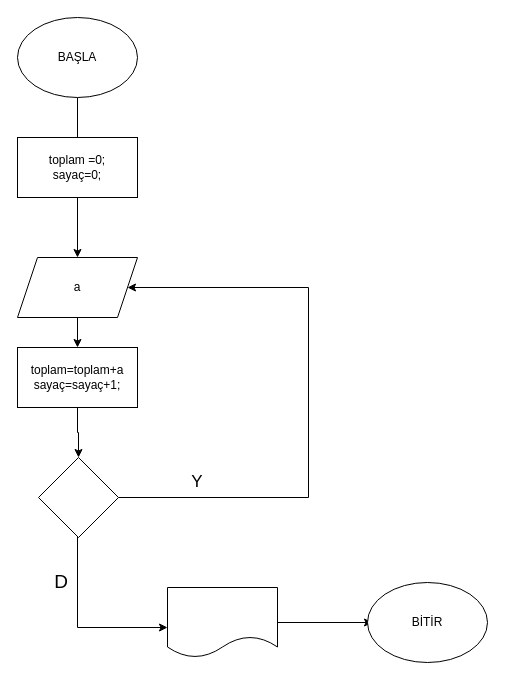
Some shapes in this 505 by 680 pixel diagram are drawn without their labels. The centre of each missing label's shape, as x and y in pixels:
"sayaç=" belongs at (78,497).
"Toplam" belongs at (222,622).
